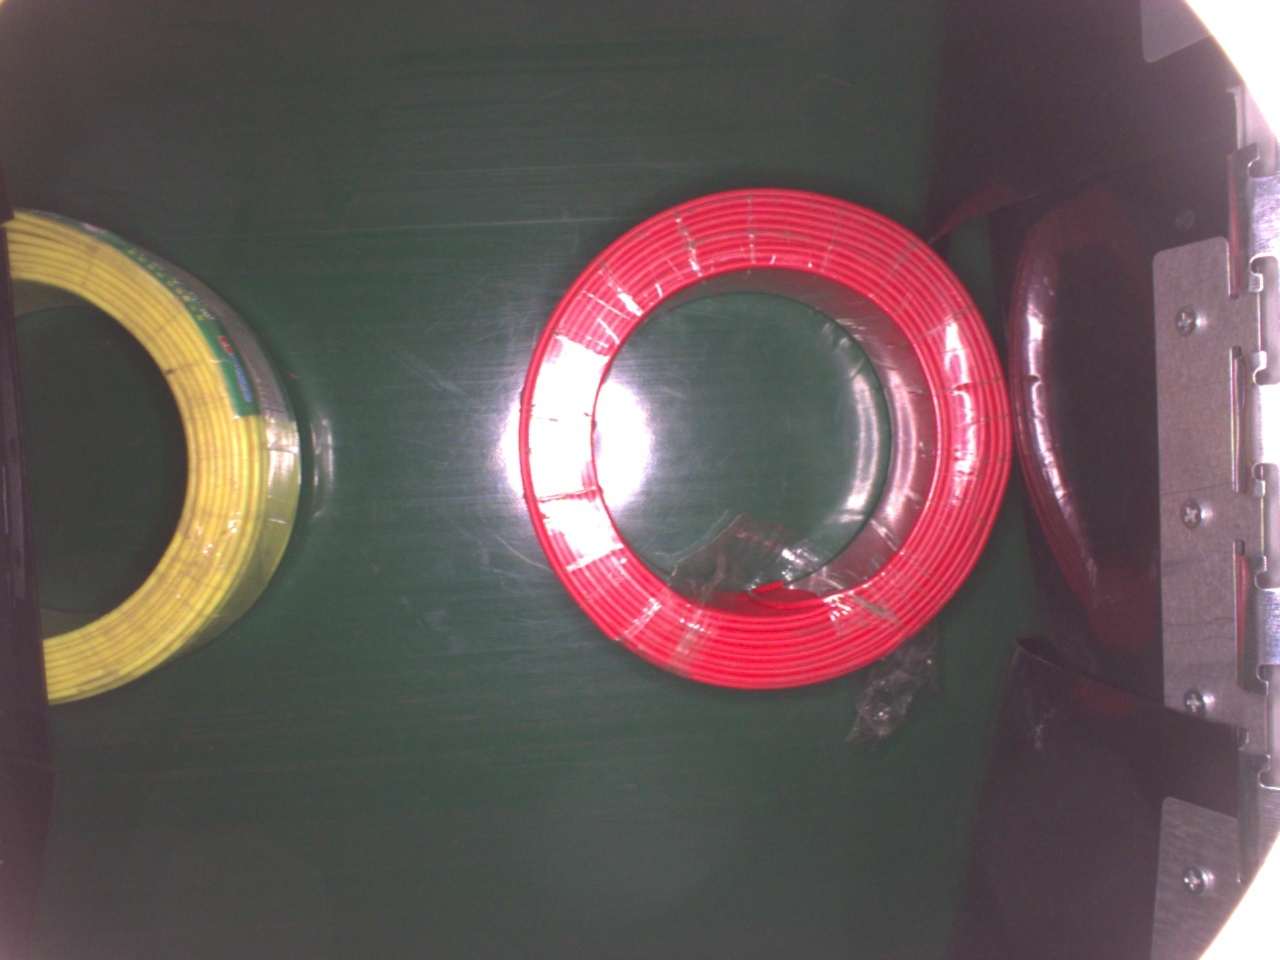red: (521, 184, 1010, 696)
yellow: (0, 213, 306, 715)
